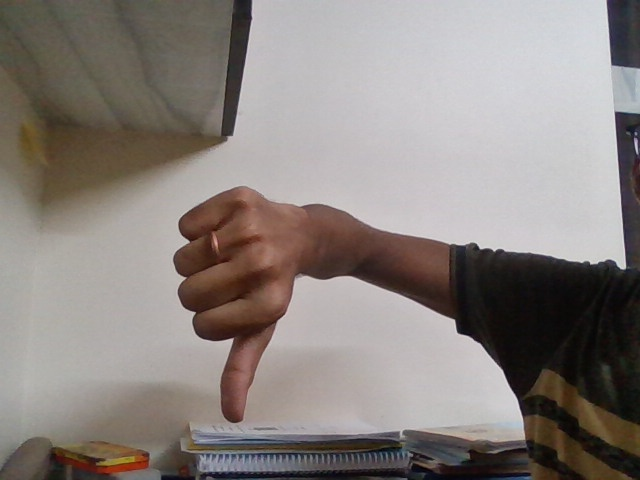No: (157, 165, 319, 442)
